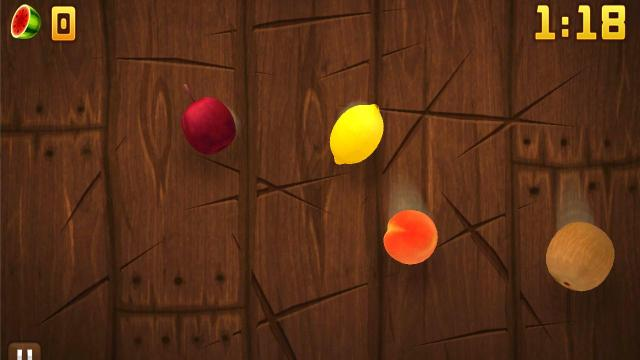fruit: (543, 221, 615, 291), (328, 103, 384, 165), (182, 94, 236, 154), (382, 209, 438, 264)
ignore: (9, 3, 43, 41)
